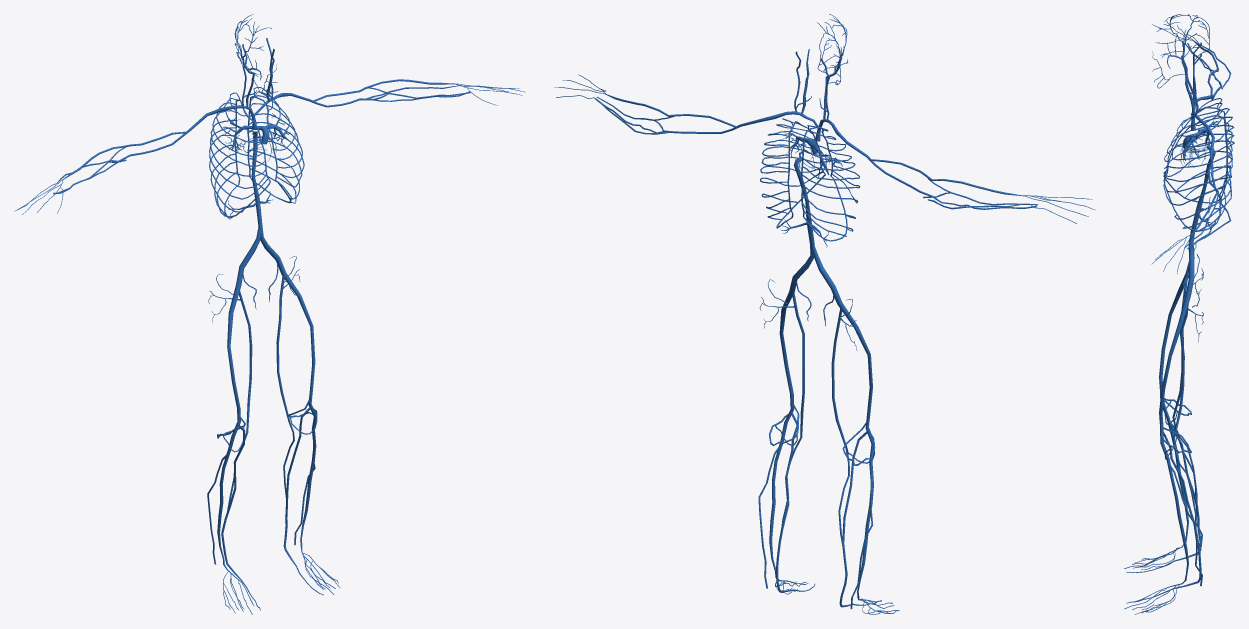
The model's file is 男性_循环系统_静脉.fbx.
The picture shows the model from 3 angles, left to right: view 1: azimuth 30°, elevation 25°; view 2: azimuth 150°, elevation 25°; view 3: azimuth 270°, elevation 25°; orthographic projection. The views are drawn at different scales.
Parts seen in each view (by area): view 1: 男性_循环系统_静脉; view 2: 男性_循环系统_静脉; view 3: 男性_循环系统_静脉.
Part boxes in pixels (x1,y1,x2,y2): 男性_循环系统_静脉: [14, 14, 525, 614]; 男性_循环系统_静脉: [554, 14, 1095, 614]; 男性_循环系统_静脉: [1124, 14, 1234, 614].
Bounding box in the file's own units: 170 × 182 × 32.06.
